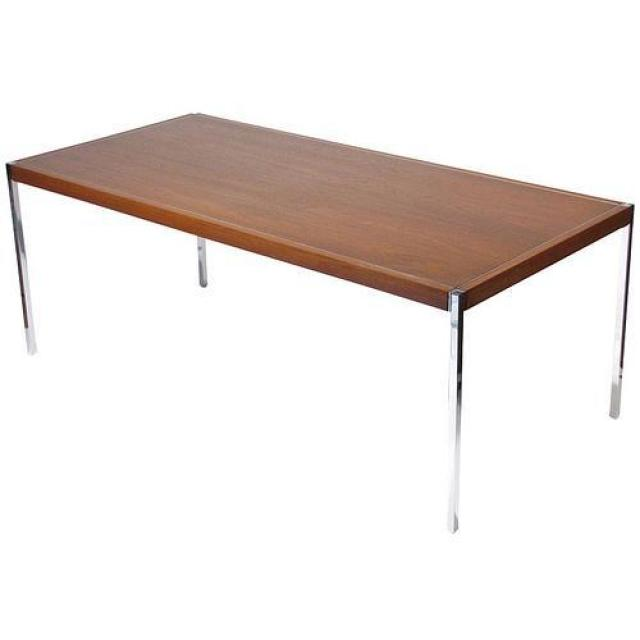table: (5, 114, 640, 536)
